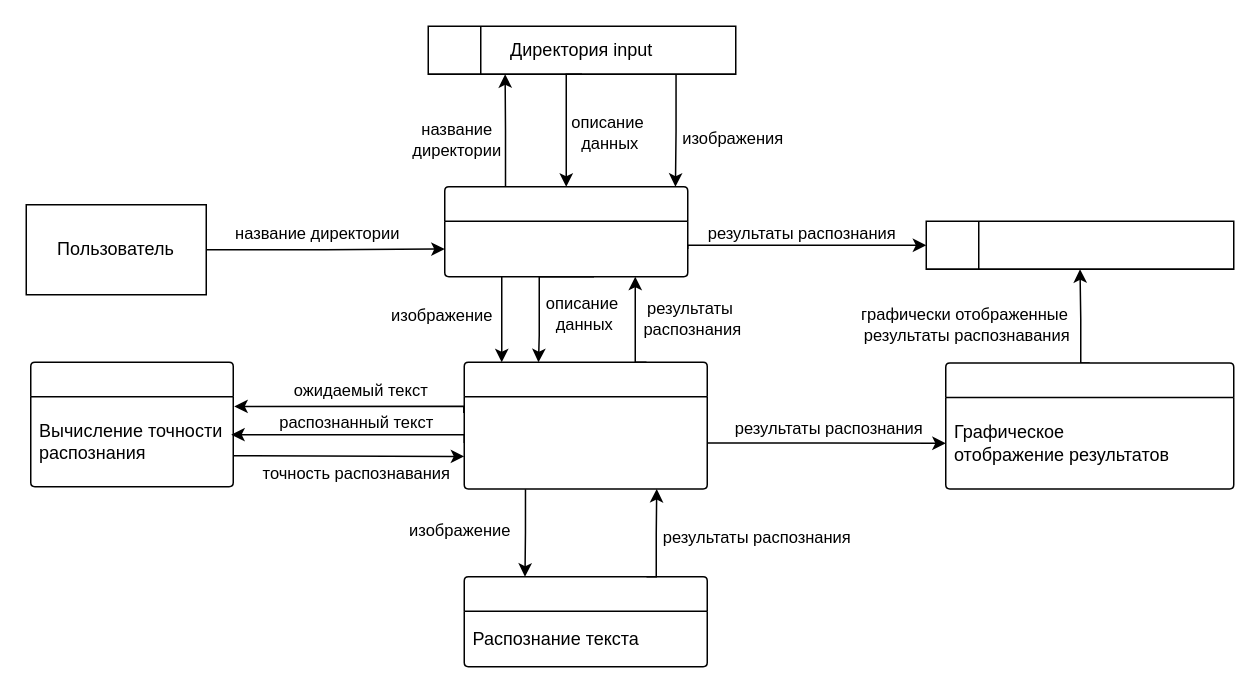
Some shapes in this 1260 by 693 pixel diagram are drawn without their labels. The shapes that lost their labels are listed below. From the top down, each one's centre as x and y in pixels, then its label:
point 565,231: Сравнительный анализ инструментов OCR
point 1079,244: Директория output
point 585,425: Обработка изображения
